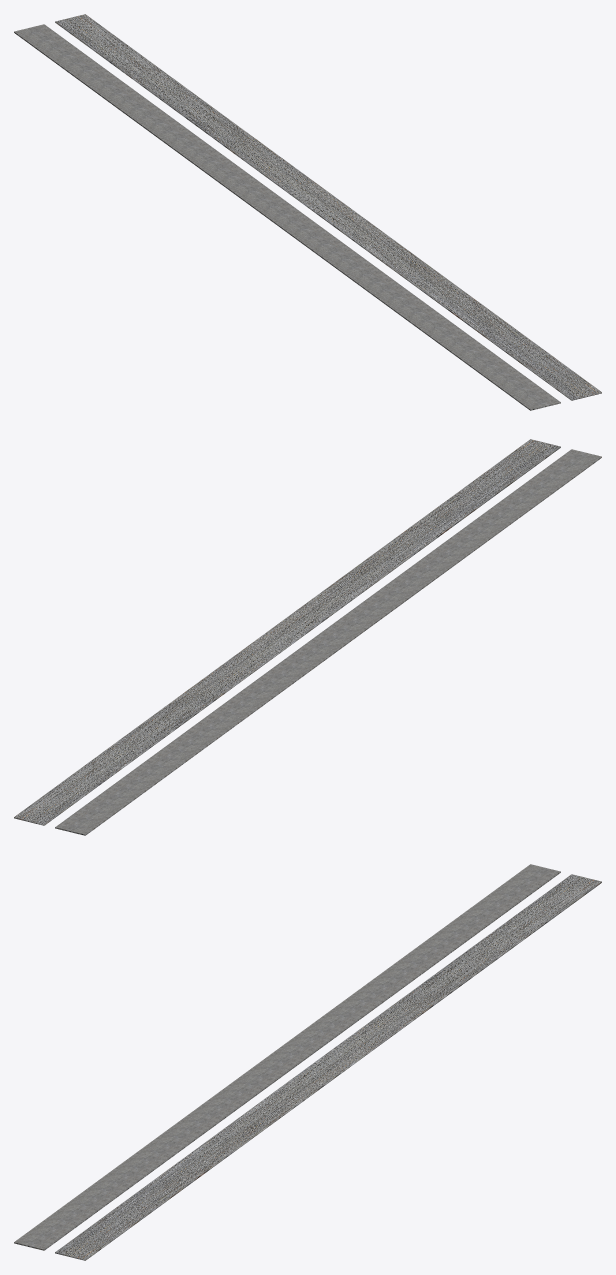
File: Caminos.glb
3 views of the same model, one above another, from view 1: azimuth 30°, elevation 25°; view 2: azimuth 150°, elevation 25°; view 3: azimuth 330°, elevation 25° (orthographic).
Parts seen in each view (by area): view 1: Plane, Plane.001; view 2: Plane, Plane.001; view 3: Plane, Plane.001.
Part boxes in pixels (x1,y1,x2,y2): Plane: [55, 14, 601, 400]; Plane.001: [14, 24, 560, 410]; Plane: [14, 439, 560, 825]; Plane.001: [55, 449, 601, 835]; Plane: [55, 874, 601, 1260]; Plane.001: [14, 864, 560, 1250].
Bounding box in the file's own units: 30.63 × 0.4915 × 383.
Materials: 1 (1 with a texture image).
